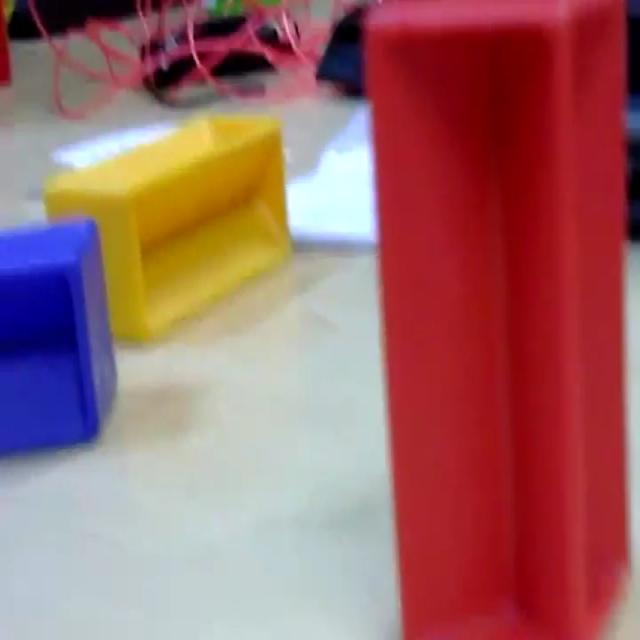blue_block: (0, 213, 118, 456)
red_block: (362, 1, 630, 636)
yellow_block: (41, 110, 291, 342)
